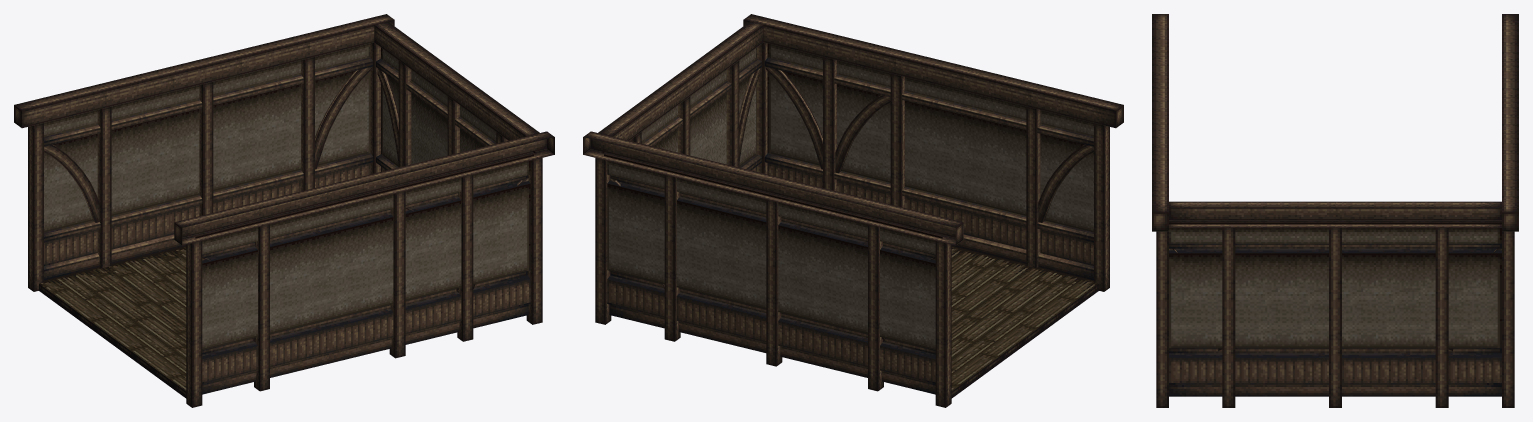
File: EnvBdgMD_Mount_A_Indoor_House_C_A.FBX
The picture shows the model from 3 angles, left to right: view 1: azimuth 30°, elevation 25°; view 2: azimuth 150°, elevation 25°; view 3: azimuth 270°, elevation 25°; orthographic projection. The views are drawn at different scales.
Parts seen in each view (by area): view 1: EnvBdgMD_Mount_A_Indoor_House_C_A; view 2: EnvBdgMD_Mount_A_Indoor_House_C_A; view 3: EnvBdgMD_Mount_A_Indoor_House_C_A.
Boxes of the visible parts, x1=… form: EnvBdgMD_Mount_A_Indoor_House_C_A: x1=14, y1=14, x2=554, y2=407; EnvBdgMD_Mount_A_Indoor_House_C_A: x1=583, y1=14, x2=1123, y2=407; EnvBdgMD_Mount_A_Indoor_House_C_A: x1=1152, y1=14, x2=1518, y2=407.
Size of the model in its own units: 1100 by 520 by 860.
1 material, 1 textured.
